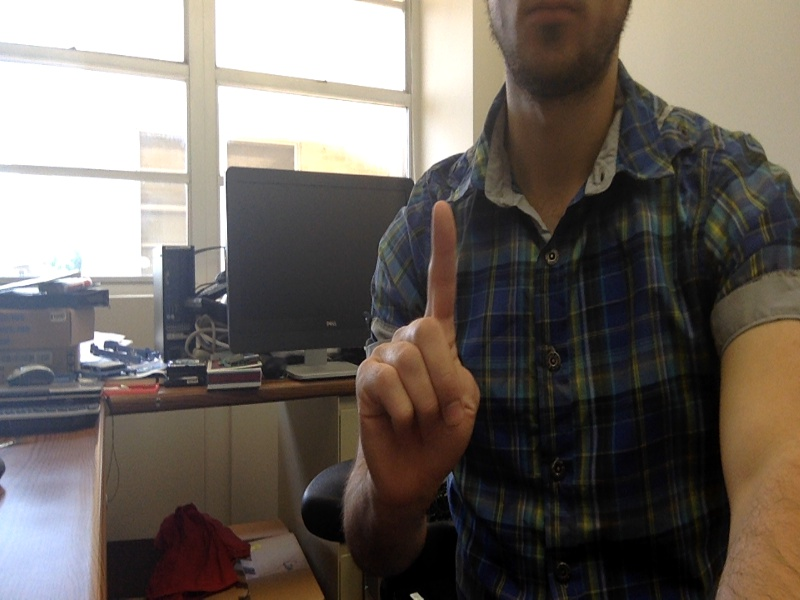1-hand: (348, 204, 485, 492)
